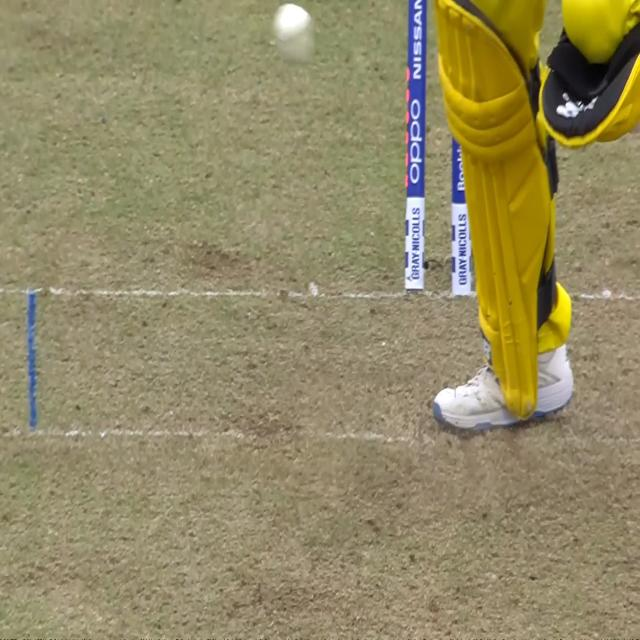ball: (272, 0, 315, 70)
